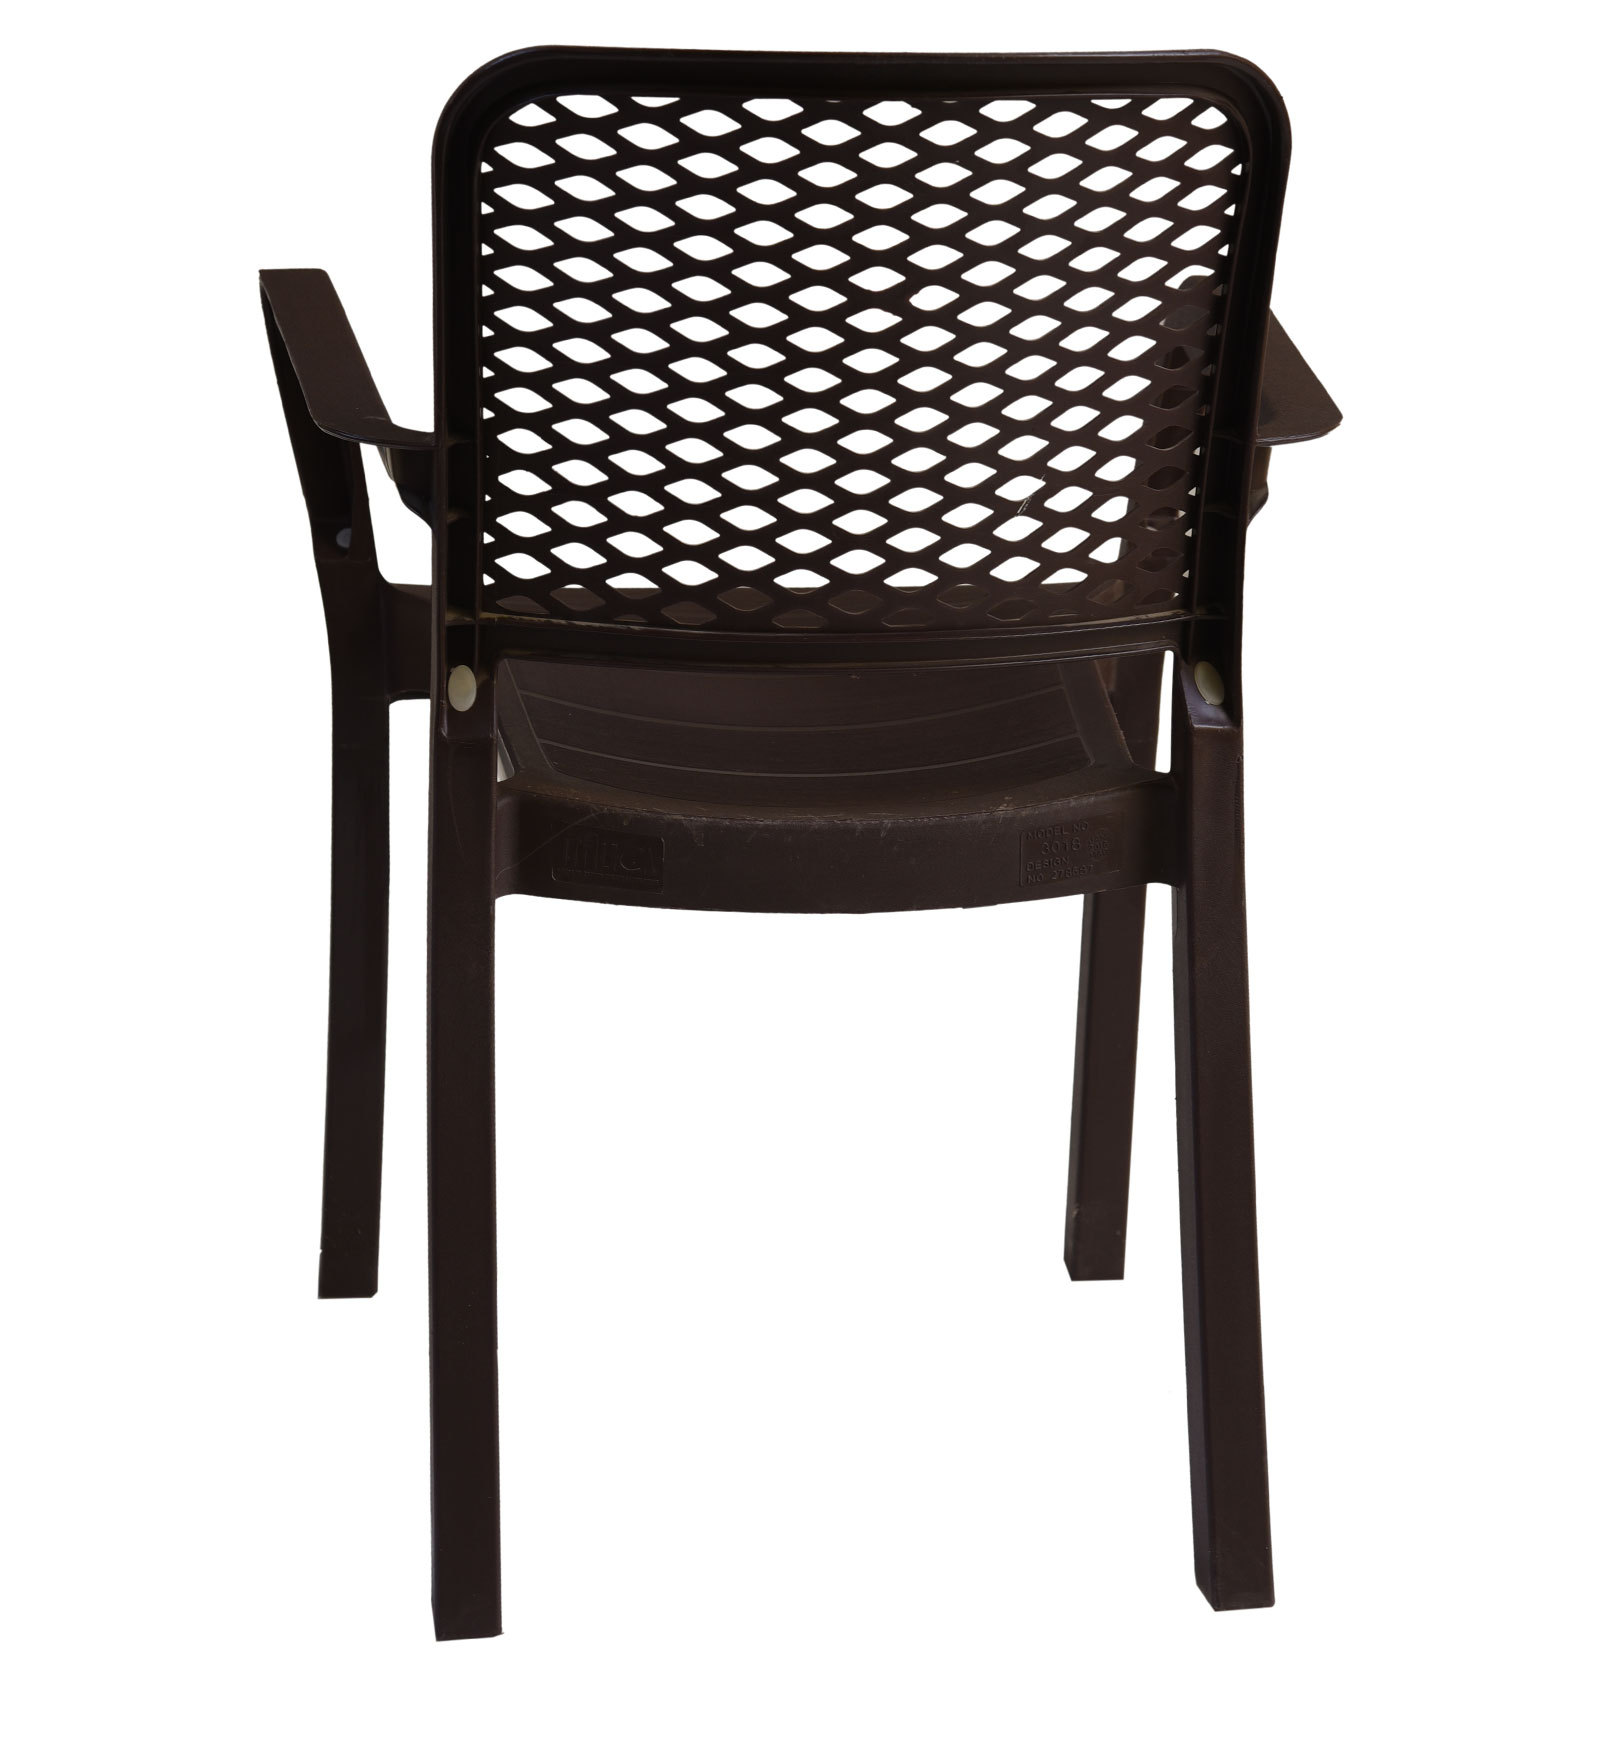Luxury Plastic Chair (Set of 2) in Brown Colour by Italica Furniture: (248, 43, 1343, 1637)
